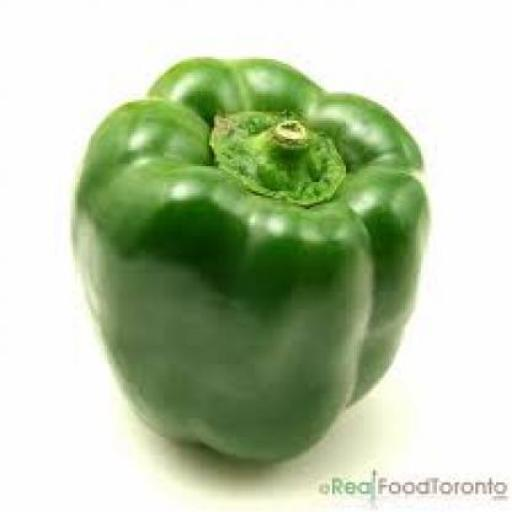biodegradable: (72, 55, 424, 462)
